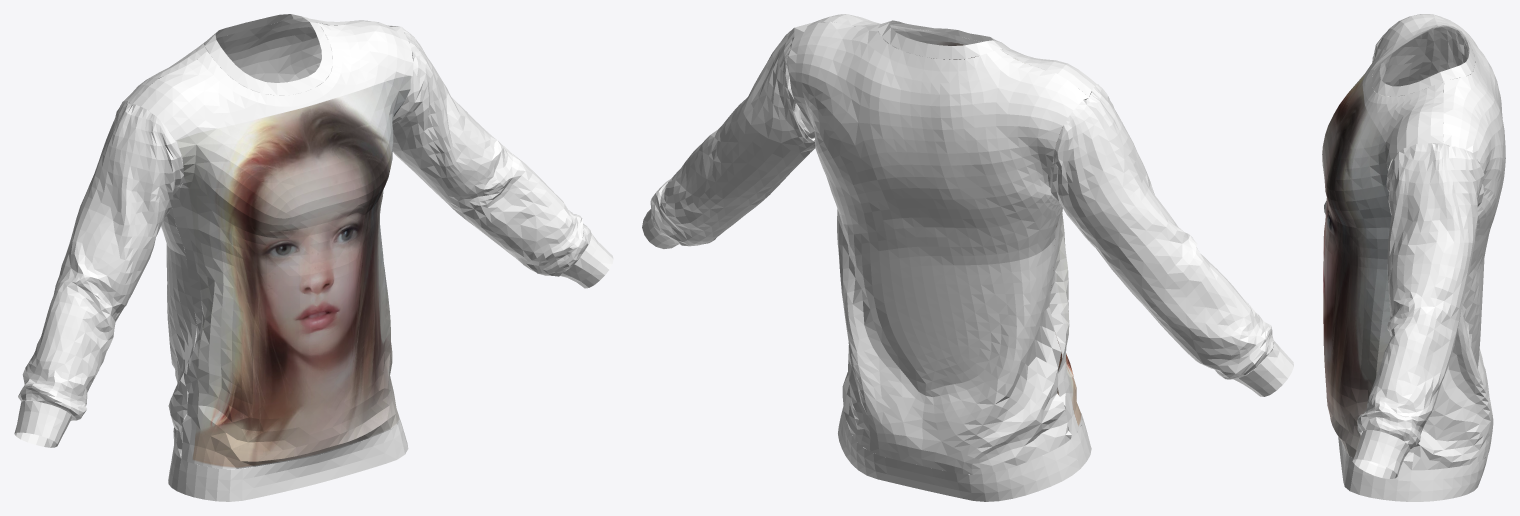
File: bbb.obj
3 renders of one model, left to right at view 1: azimuth 30°, elevation 25°; view 2: azimuth 150°, elevation 25°; view 3: azimuth 270°, elevation 25°, orthographic. The views are drawn at different scales.
Size of the model in its own units: 105 by 71.44 by 28.43.
1 material, 1 textured.
